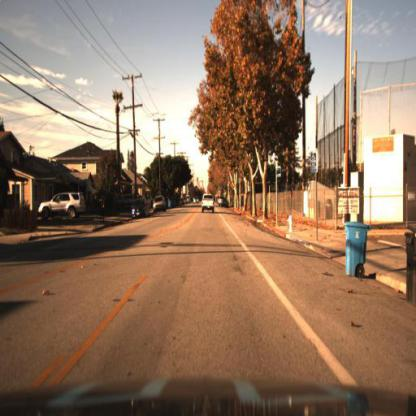car: (37, 191, 87, 223), (129, 194, 148, 219), (199, 190, 216, 215), (151, 192, 166, 217), (151, 194, 168, 212)
